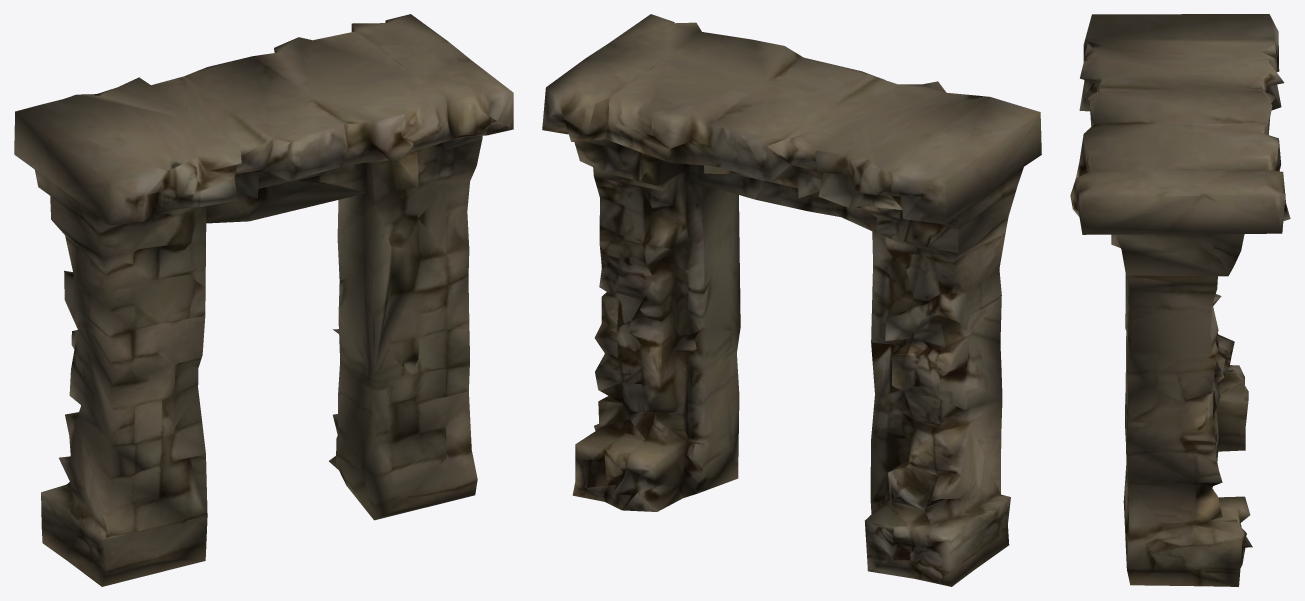
The model's file is cell_frame_ready.glb.
3 renders of one model, left to right at view 1: azimuth 30°, elevation 25°; view 2: azimuth 150°, elevation 25°; view 3: azimuth 270°, elevation 25°, orthographic. The views are drawn at different scales.
Parts seen in each view (by area): view 1: Module; view 2: Module; view 3: Module.
Part boxes in pixels (bbox=[...]): Module: bbox=[14, 14, 513, 586]; Module: bbox=[542, 14, 1041, 586]; Module: bbox=[1070, 14, 1290, 586].
Bounding box in the file's own units: 3.25 × 3.3 × 1.66.
Materials: 1 (1 with a texture image).
